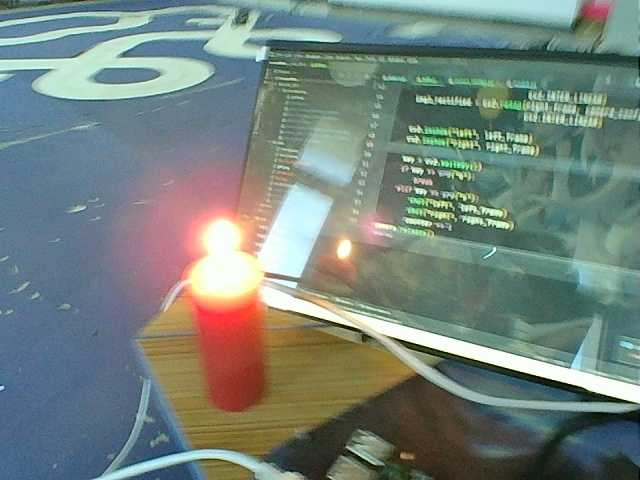candle: (179, 270, 282, 414)
fire: (190, 214, 249, 266), (331, 236, 358, 267)
